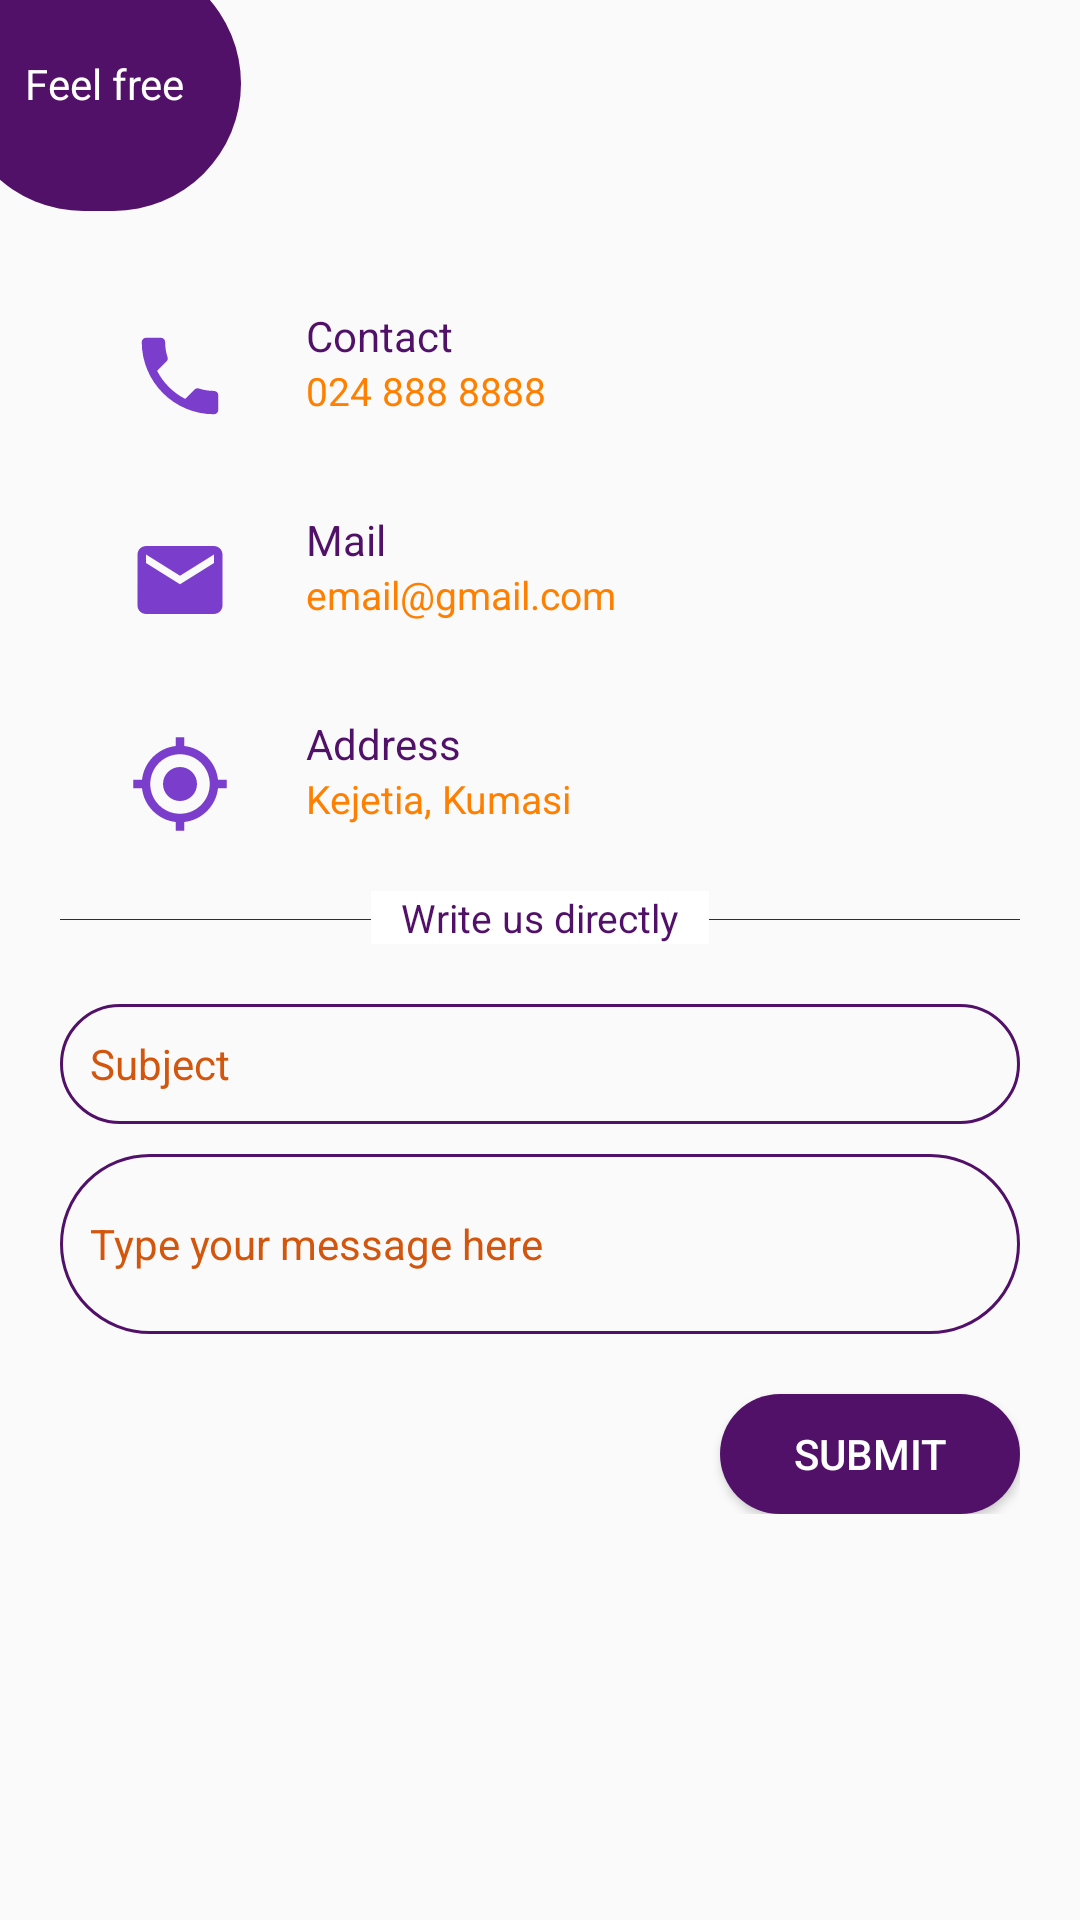

Locate icon controls on the screen. Image size 1080 x 1920, boxes as box=[x1, y1, x2, y2].
location: box=[133, 737, 227, 831]
phone: box=[141, 337, 219, 415]
